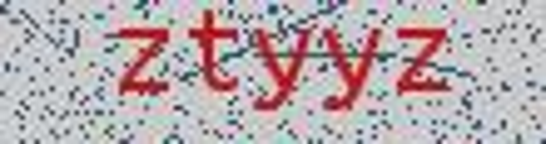t: (181, 3, 244, 104)
y: (318, 21, 384, 119), (247, 23, 313, 119)
z: (104, 19, 175, 104), (391, 21, 458, 106)
